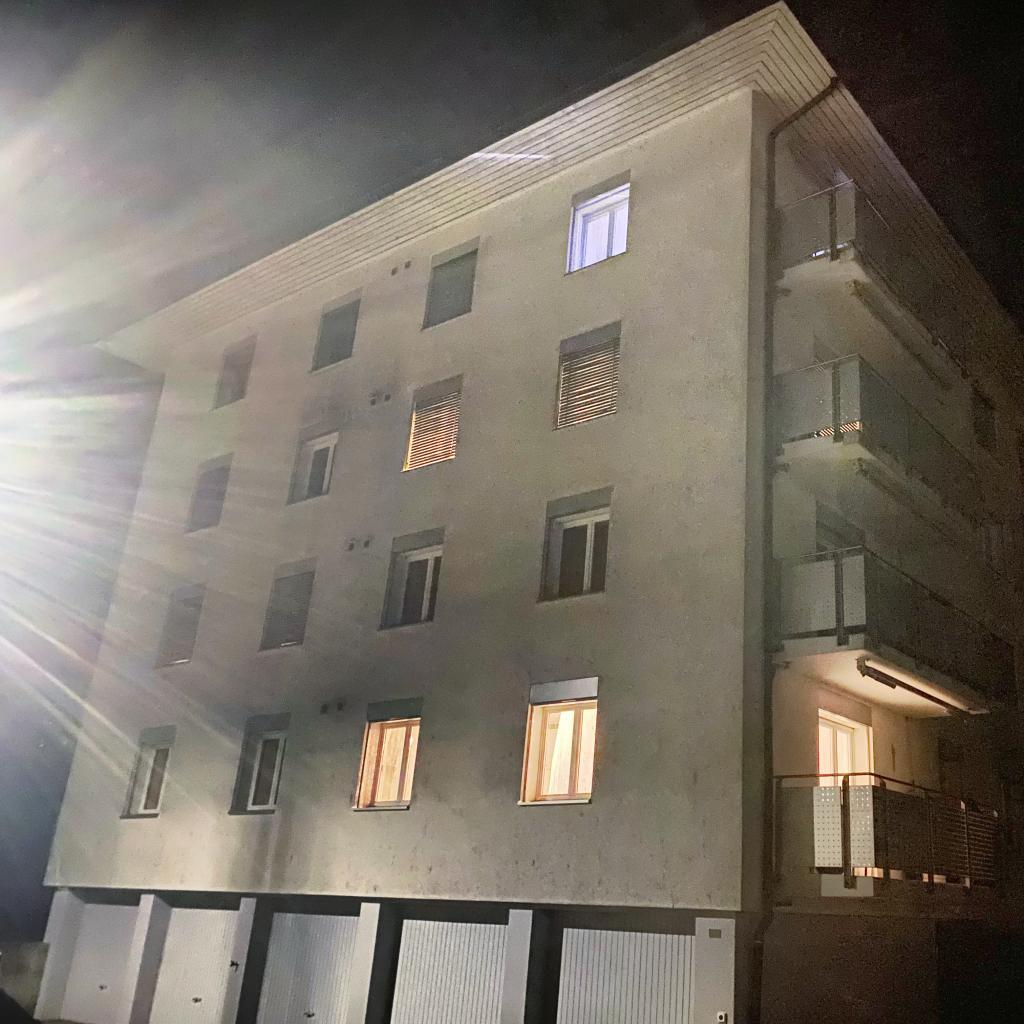balcony-fence: (772, 179, 976, 380), (774, 545, 1020, 709), (771, 353, 981, 531), (771, 772, 1024, 905)
facade: (0, 2, 1024, 1024)
window: (541, 909, 697, 1024), (383, 904, 509, 1024), (253, 898, 360, 1024), (144, 891, 240, 1024), (57, 888, 141, 1024), (553, 322, 621, 430), (542, 504, 610, 601), (534, 700, 597, 800), (403, 374, 463, 471), (568, 182, 628, 273), (386, 542, 443, 626), (422, 247, 478, 329), (368, 718, 420, 805), (260, 570, 316, 650), (154, 584, 206, 668), (289, 427, 340, 503), (125, 736, 174, 815), (240, 730, 287, 811), (815, 357, 862, 435), (185, 457, 232, 533), (313, 299, 361, 371), (214, 340, 256, 409), (819, 717, 855, 787), (974, 389, 998, 459), (983, 510, 1006, 577), (816, 529, 858, 562)
